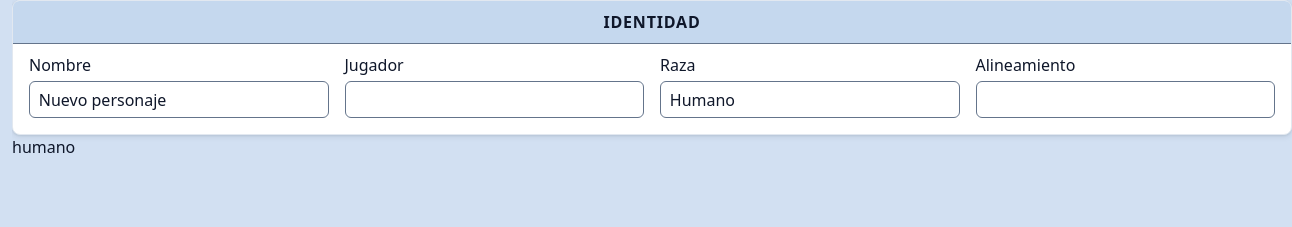
Scenario: IdentitySection › edits the name and picks a race
Replace the text in the field labelled "Nombre" with "Seoni": (179, 100) [29,81,328,118]
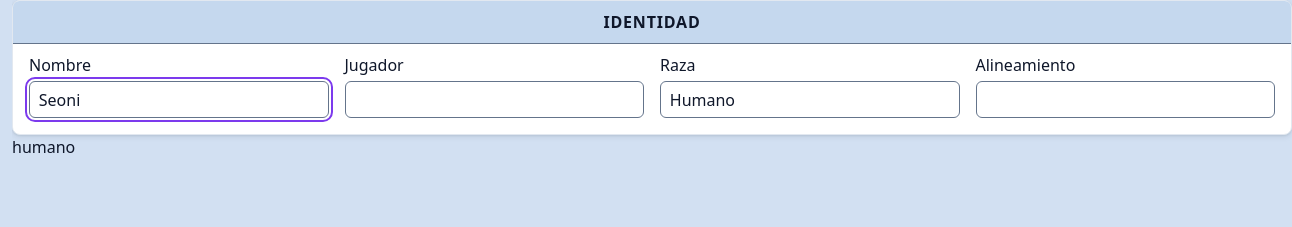
Click the dropdown labelled "Raza": click(810, 100) [660,81,960,118]
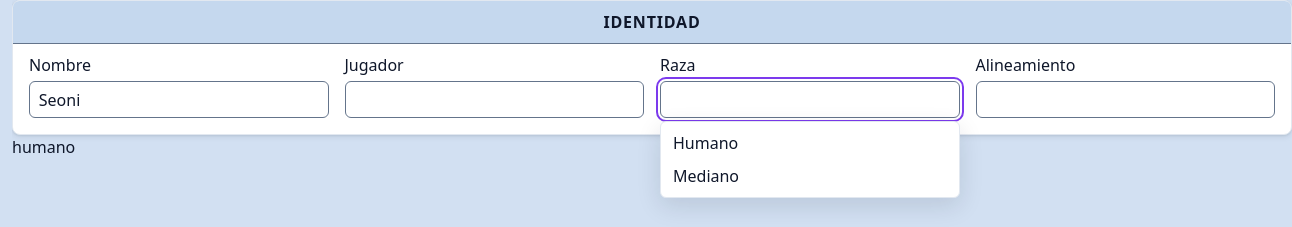
Click the option "Mediano": click(706, 176) [673,165,739,187]
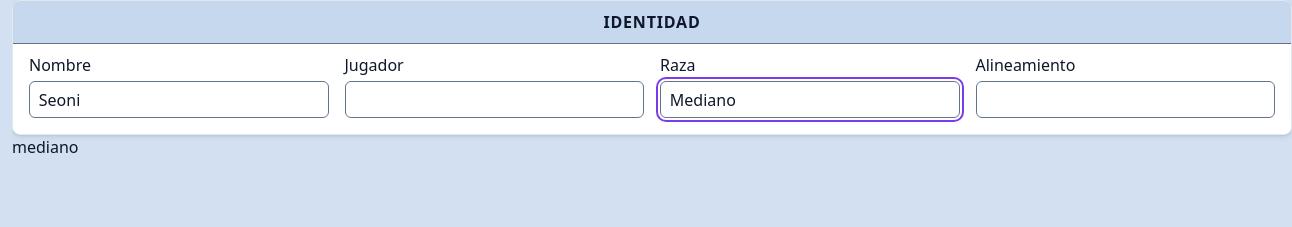
Result: the text "mediano" is shown at [12,136,78,158]
